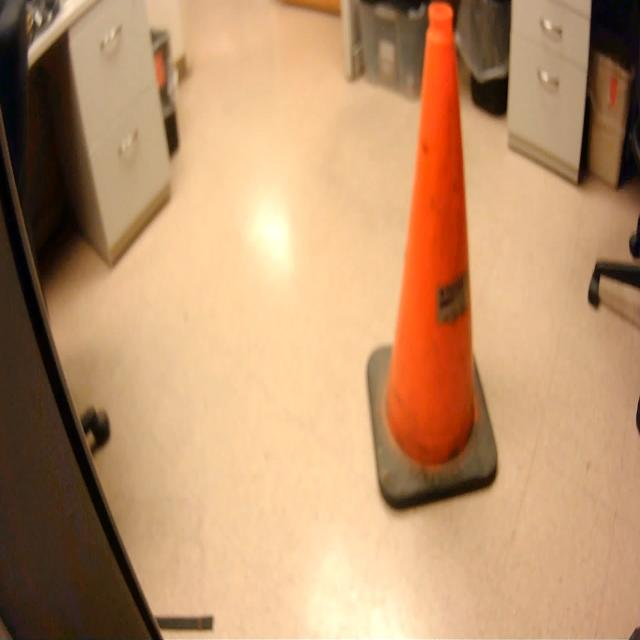traffic cone: (362, 1, 503, 516)
